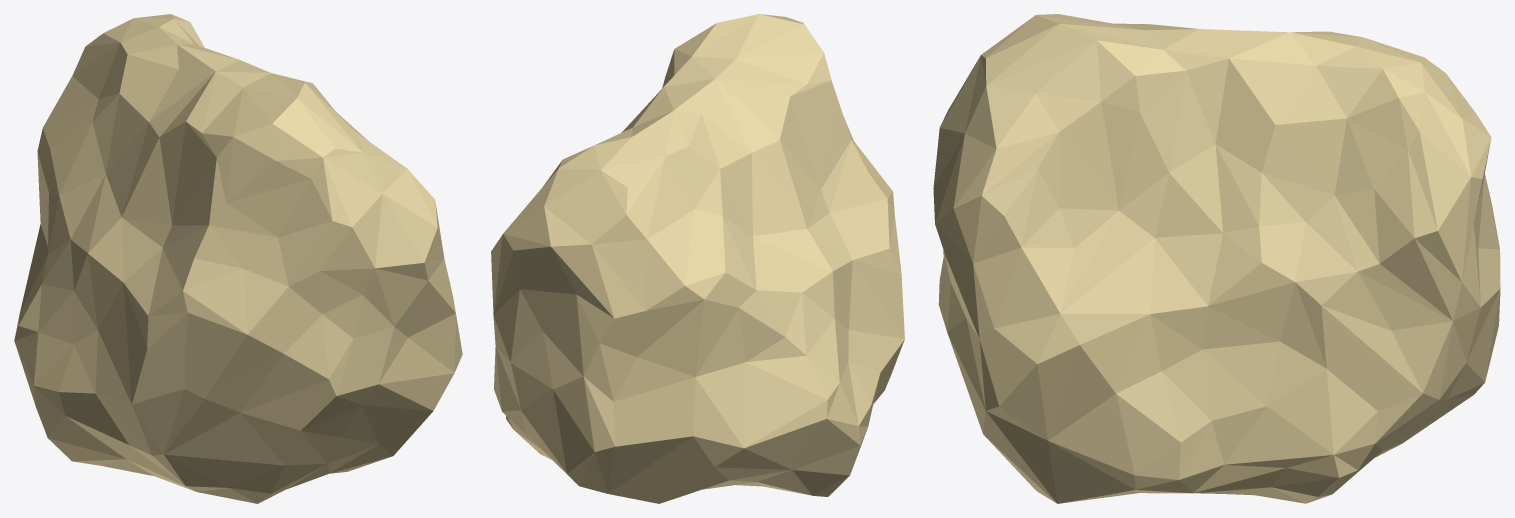
Rendered from Asteroid (38).fbx.
The picture shows the model from 3 angles, left to right: view 1: azimuth 30°, elevation 25°; view 2: azimuth 150°, elevation 25°; view 3: azimuth 270°, elevation 25°; orthographic projection. The views are drawn at different scales.
Visible parts, largest first — view 1: Asteroid148; view 2: Asteroid148; view 3: Asteroid148.
Boxes of the visible parts, x1,y1,x2,y2 form: Asteroid148: [14, 14, 462, 503]; Asteroid148: [491, 14, 904, 503]; Asteroid148: [933, 14, 1500, 503].
Size of the model in its own units: 174 by 199 by 230.
